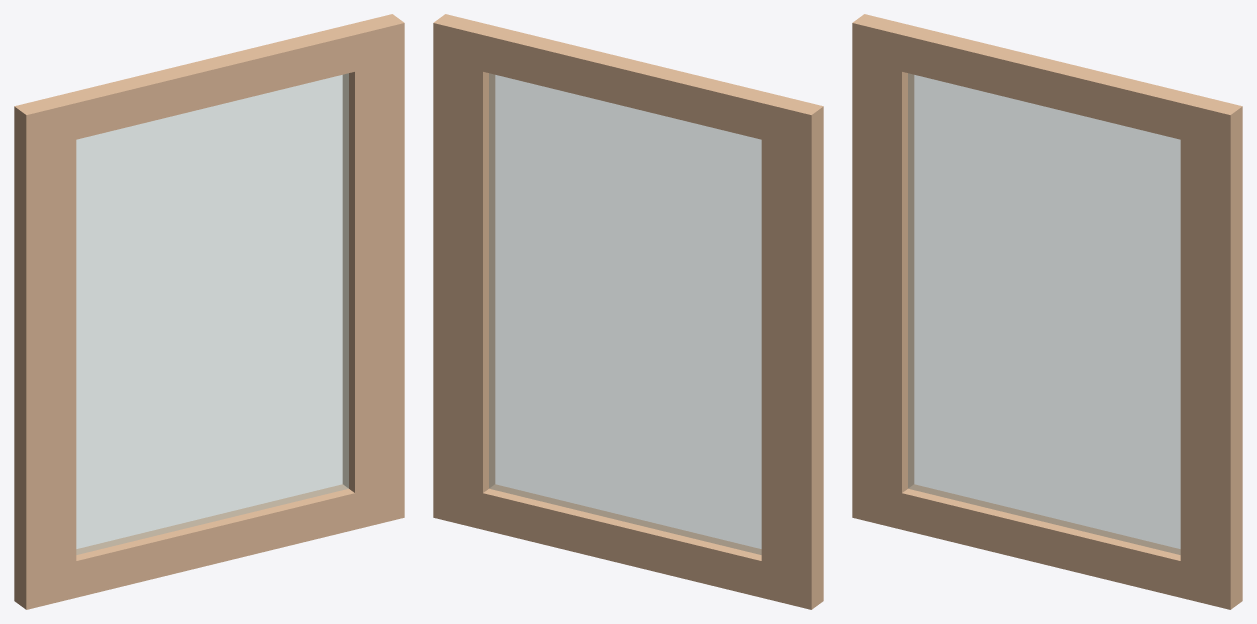
The model's file is window.glb.
The picture shows the model from 3 angles, left to right: view 1: azimuth 30°, elevation 25°; view 2: azimuth 150°, elevation 25°; view 3: azimuth 330°, elevation 25°; orthographic projection.
Parts seen in each view (by area): view 1: window; view 2: window; view 3: window.
Boxes of the visible parts, x1,y1,x2,y2 form: window: (14,14,404,609); window: (433,14,823,609); window: (852,14,1242,609).
Size of the model in its own units: 0.96 by 1.2 by 0.0536.
